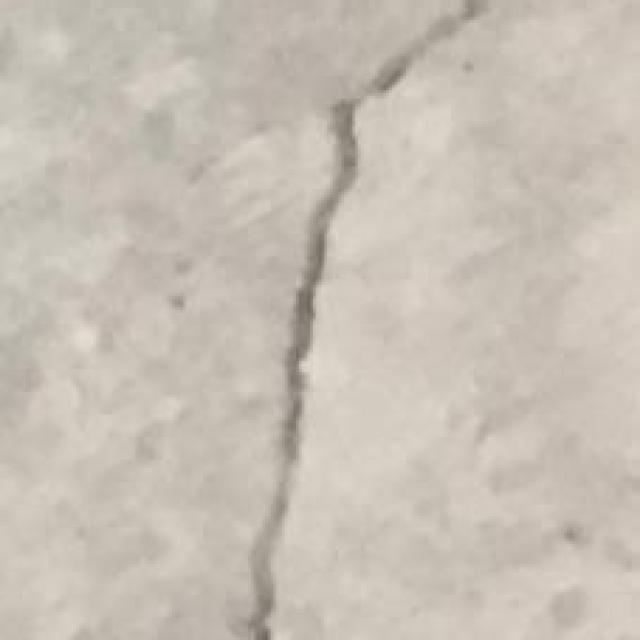Crack: (241, 0, 490, 637), (272, 112, 360, 441), (239, 312, 325, 640), (358, 2, 488, 100)
